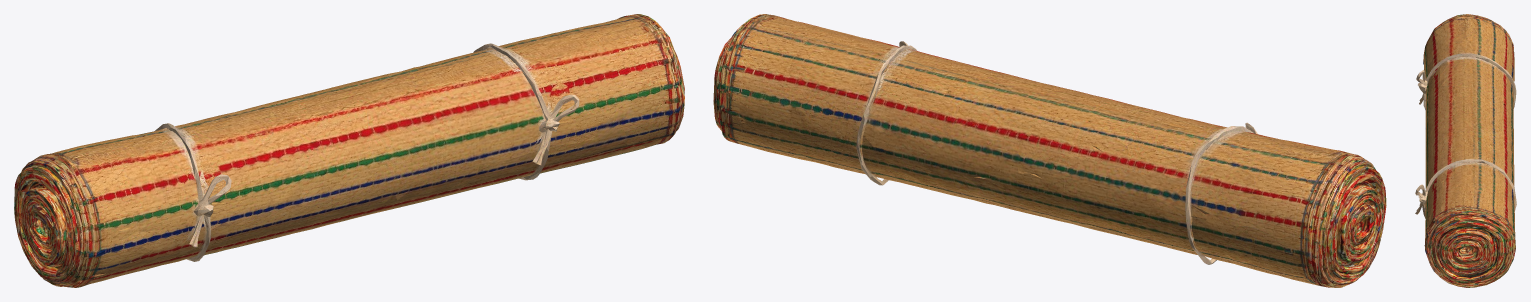
The model's file is w3matroll.glb.
The picture shows the model from 3 angles, left to right: view 1: azimuth 30°, elevation 25°; view 2: azimuth 150°, elevation 25°; view 3: azimuth 270°, elevation 25°; orthographic projection. The views are drawn at different scales.
Parts seen in each view (by area): view 1: output_unwrapped; view 2: output_unwrapped; view 3: output_unwrapped.
Part boxes in pixels (x1,y1,x2,y2): output_unwrapped: (14, 14, 684, 287); output_unwrapped: (713, 14, 1386, 287); output_unwrapped: (1415, 14, 1516, 287).
Size of the model in its own units: 1.2 by 0.2323 by 0.2545.
Materials: 1 (1 with a texture image).
